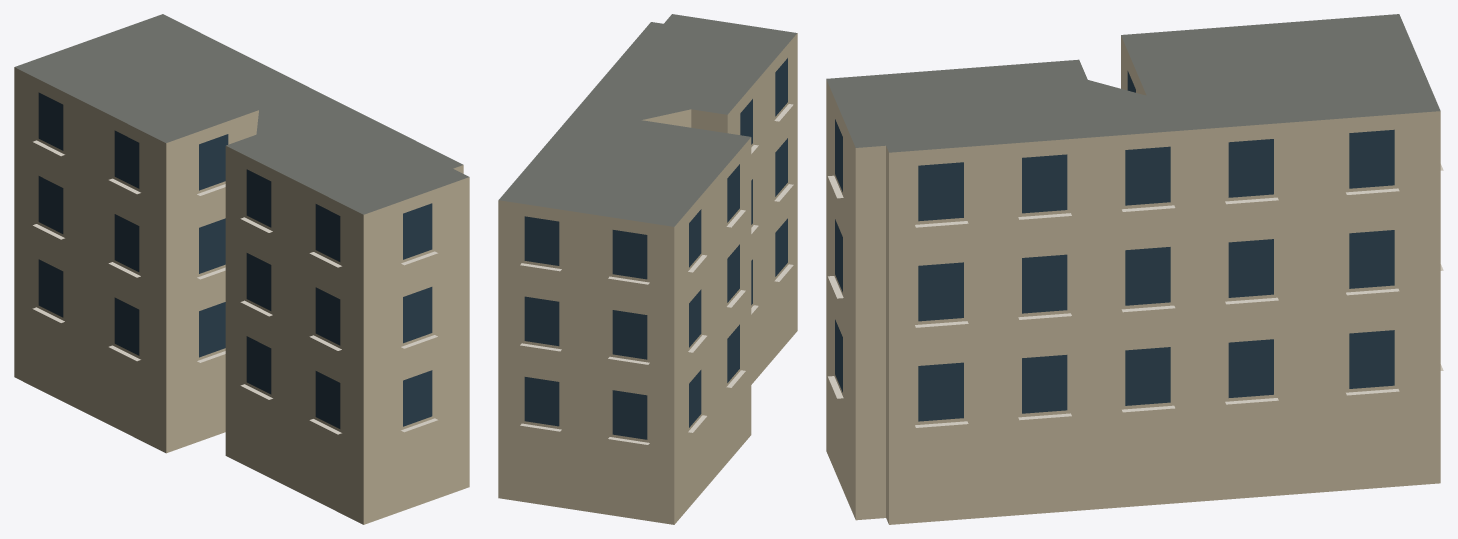
The picture shows the model from 3 angles, left to right: view 1: azimuth 30°, elevation 25°; view 2: azimuth 150°, elevation 25°; view 3: azimuth 270°, elevation 25°; orthographic projection. The views are drawn at different scales.
Visible parts, largest first — view 1: Footprint 0, Inferred window bays, Window sills; view 2: Footprint 0, Inferred window bays, Window sills; view 3: Footprint 0, Inferred window bays, Window sills.
Boxes of the visible parts, x1,y1,x2,y2 form: Footprint 0: (14, 14, 469, 524); Inferred window bays: (38, 92, 432, 428); Window sills: (32, 140, 437, 434); Footprint 0: (498, 14, 797, 524); Inferred window bays: (524, 58, 787, 439); Window sills: (520, 104, 793, 444); Footprint 0: (826, 14, 1440, 524); Inferred window bays: (835, 71, 1394, 421); Window sills: (828, 164, 1443, 427).
Size of the model in its own units: 8.96 by 11.05 by 16.61.
